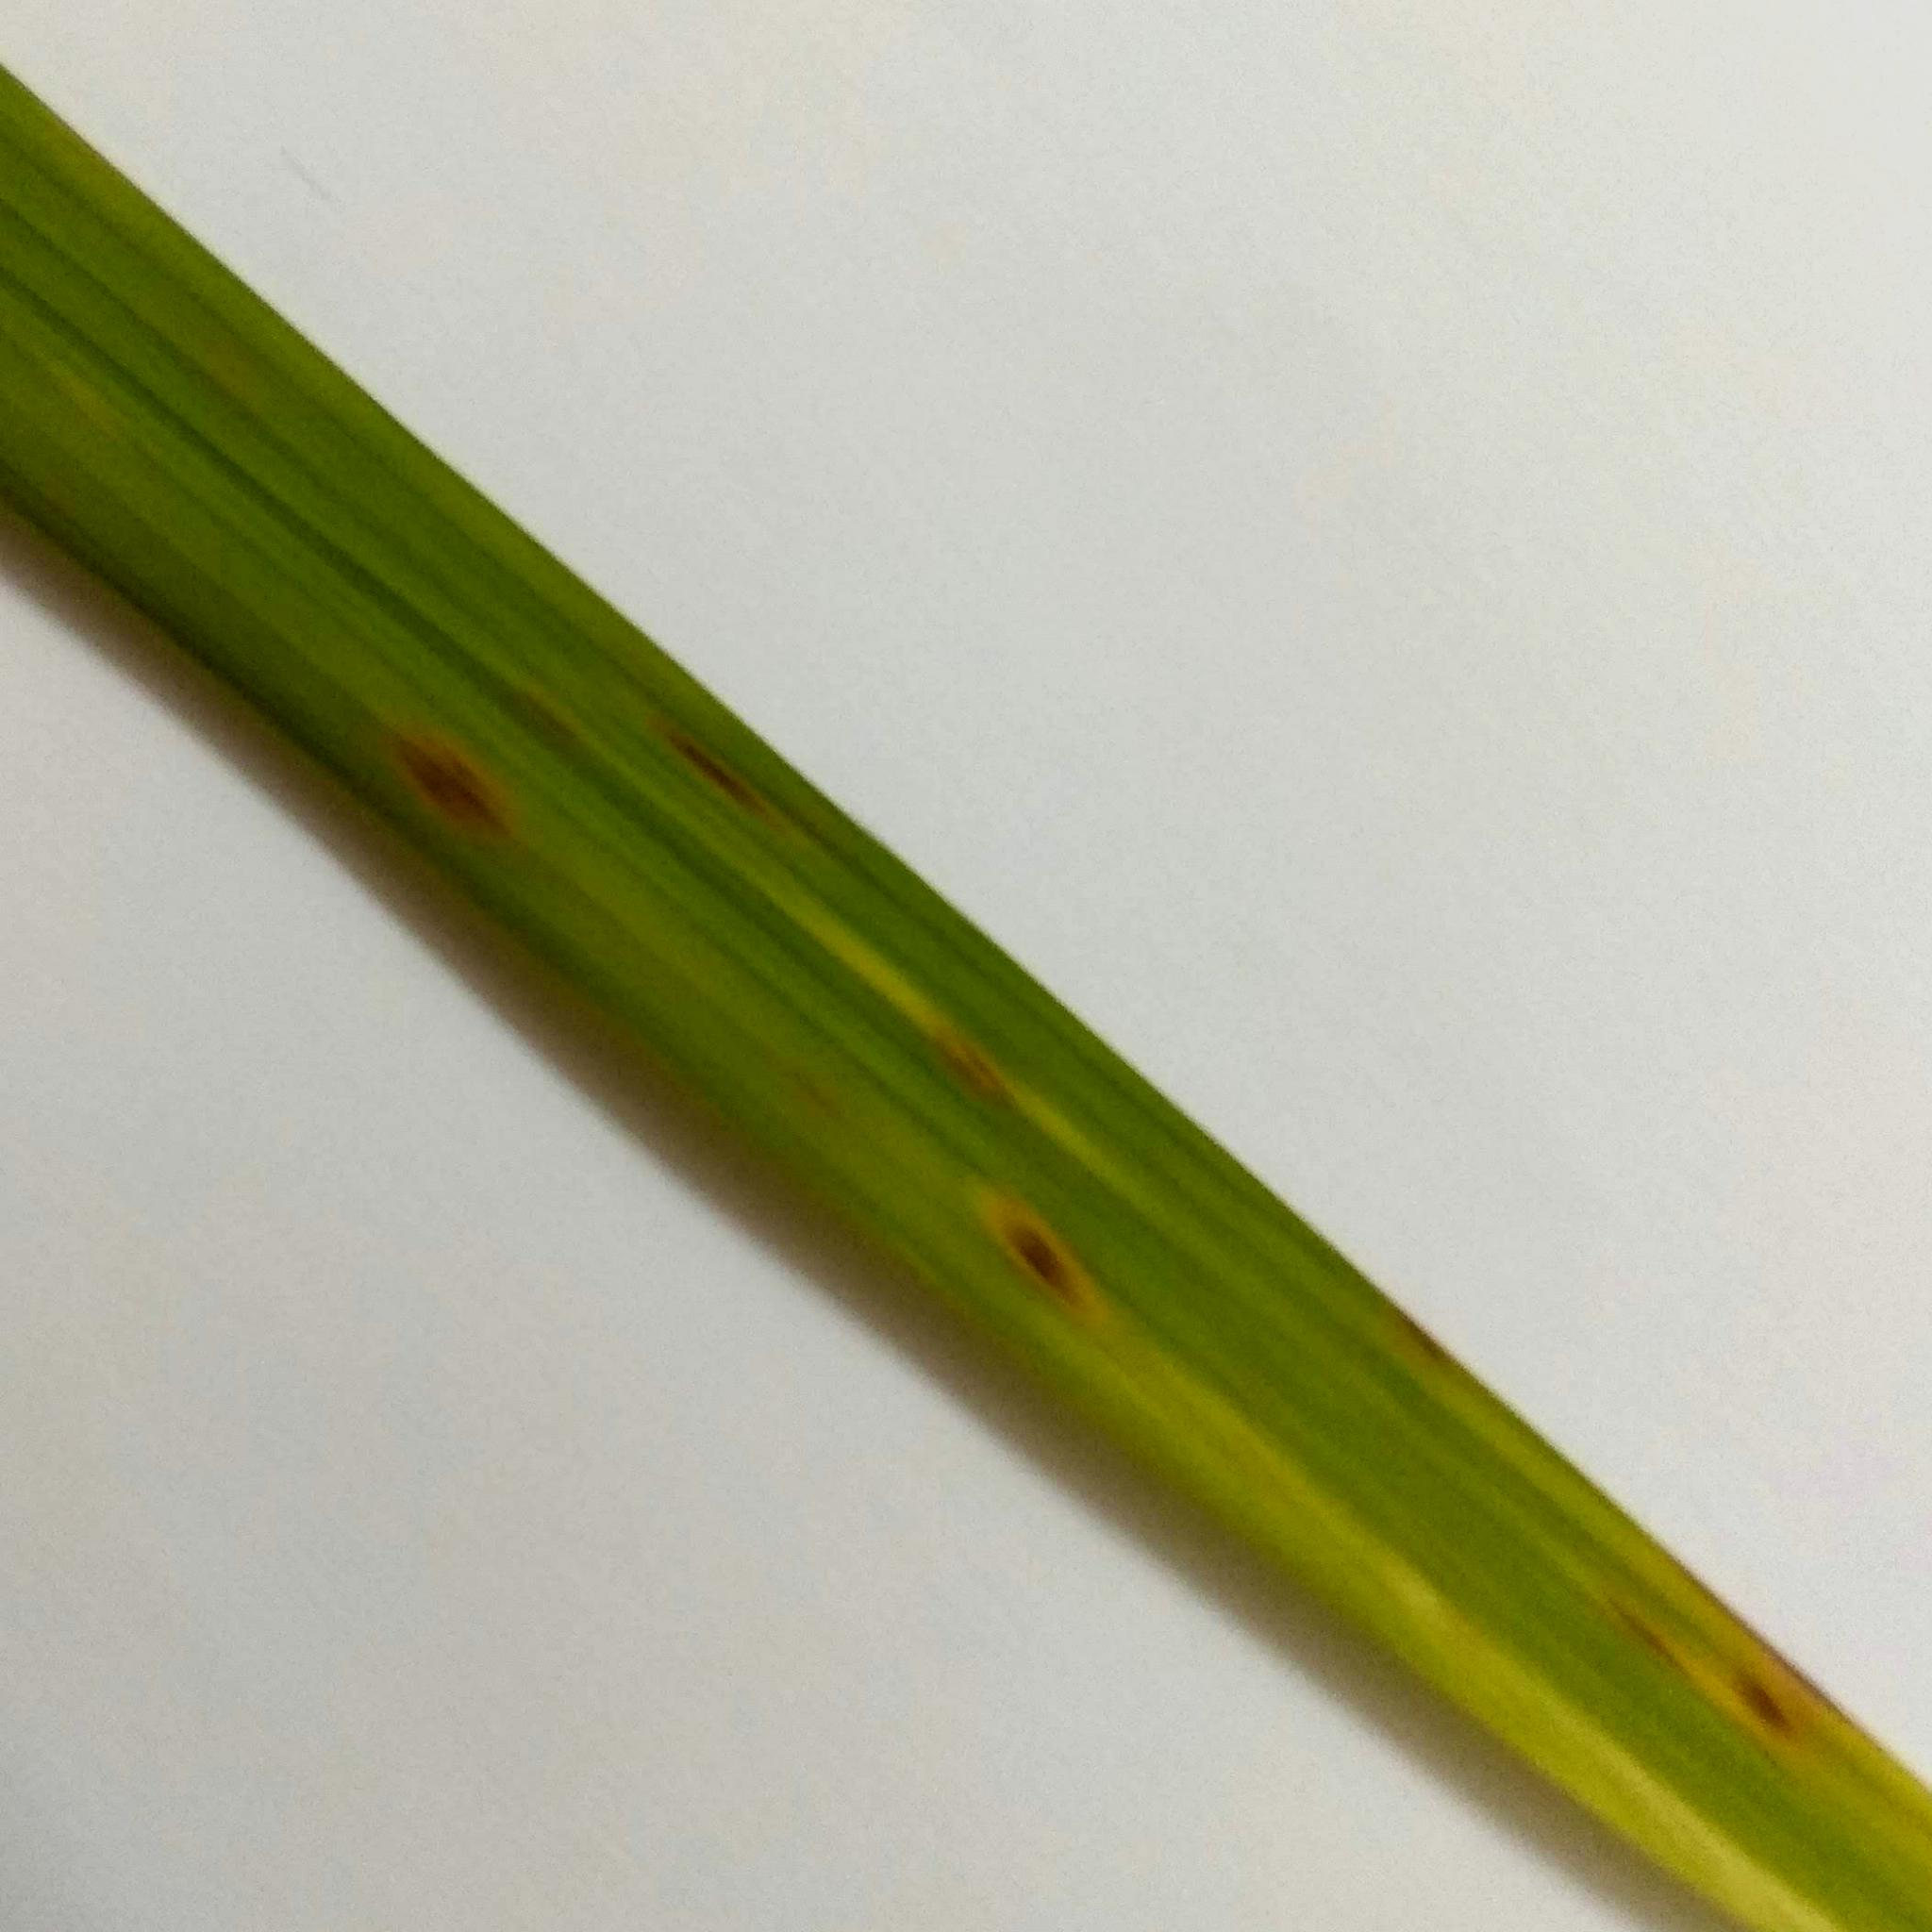1 RiceBlast: (966, 1152, 1113, 1334), (377, 702, 529, 865), (640, 683, 782, 832), (904, 1000, 1019, 1116)
